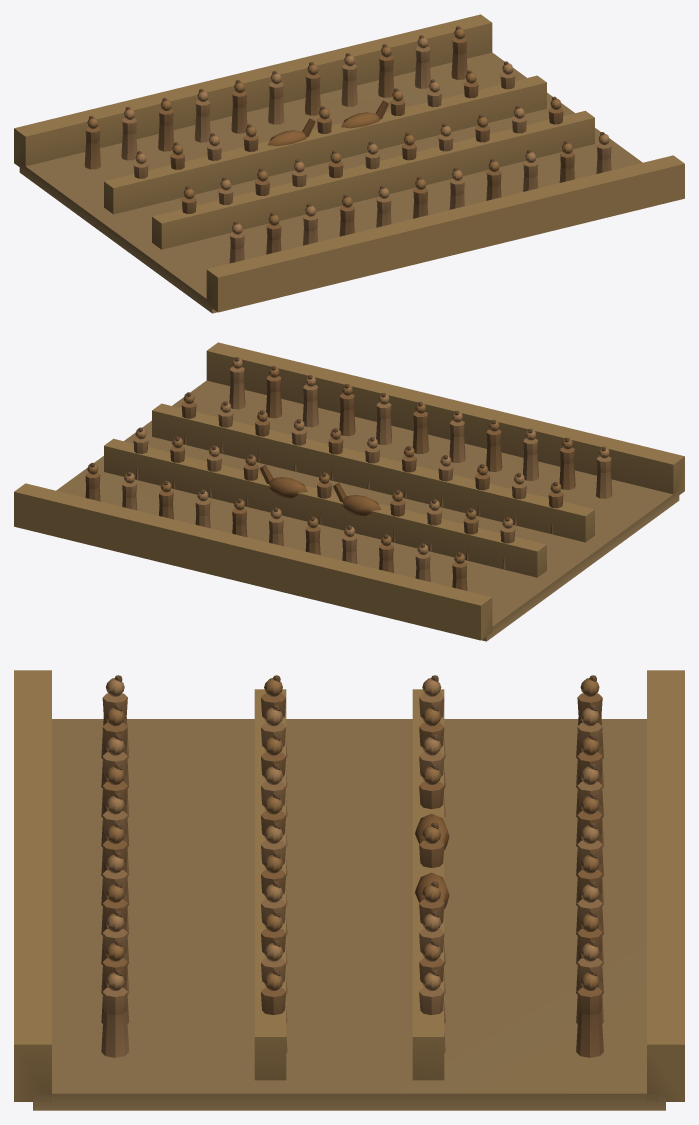
The model's file is lm-terracotta.glb.
The picture shows the model from 3 angles, top to bottom: view 1: azimuth 30°, elevation 25°; view 2: azimuth 150°, elevation 25°; view 3: azimuth 270°, elevation 25°; orthographic projection. The views are drawn at different scales.
Size of the model in its own units: 14 by 1.75 by 10.6.
